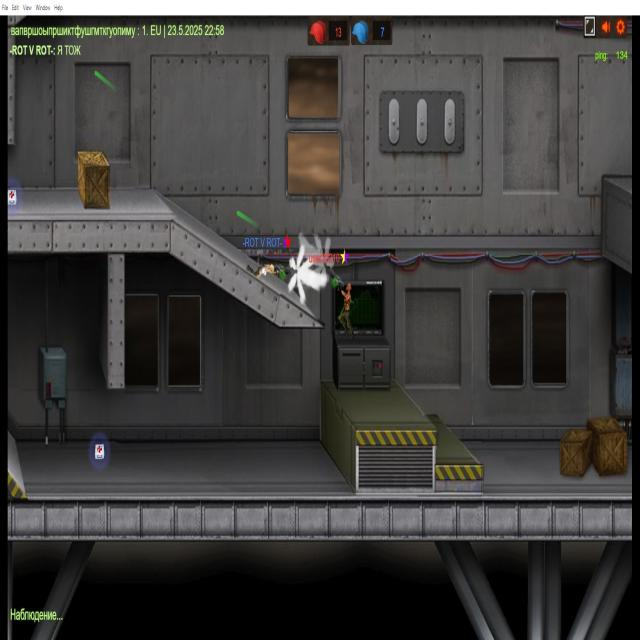enemy: (244, 260, 282, 282), (340, 283, 354, 341)
